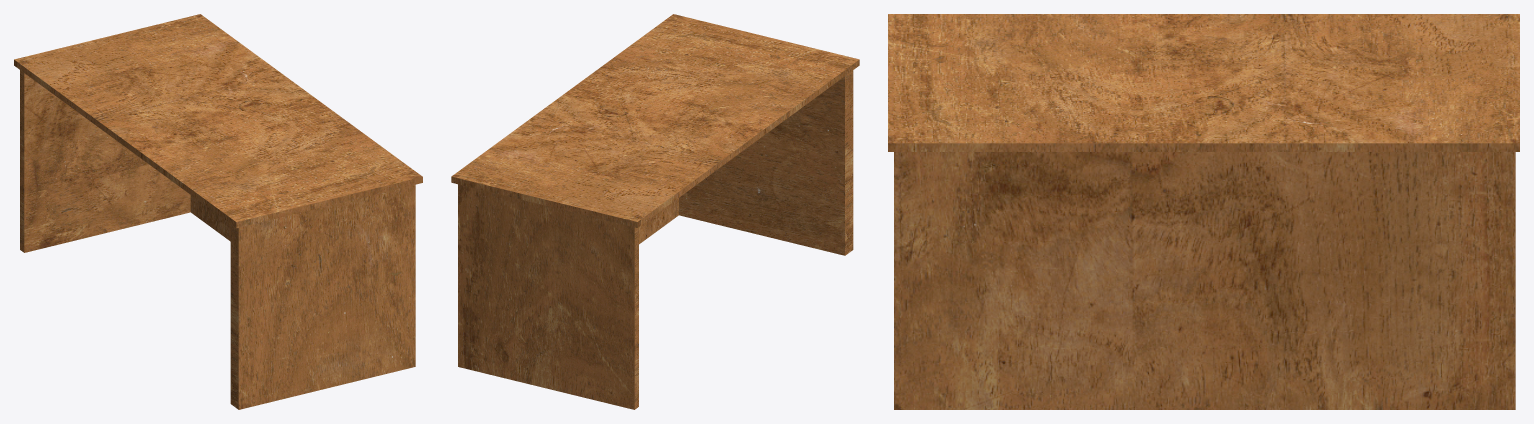
File: desk.fbx
3 renders of one model, left to right at view 1: azimuth 30°, elevation 25°; view 2: azimuth 150°, elevation 25°; view 3: azimuth 270°, elevation 25°, orthographic. The views are drawn at different scales.
Visible parts, largest first — view 1: Cube; view 2: Cube; view 3: Cube.
Part boxes in pixels (x1,y1,x2,y2): Cube: [14, 14, 422, 409]; Cube: [451, 14, 859, 409]; Cube: [888, 14, 1519, 409].
Bounding box in the file's own units: 290 × 283 × 599.
1 material, 1 textured.
